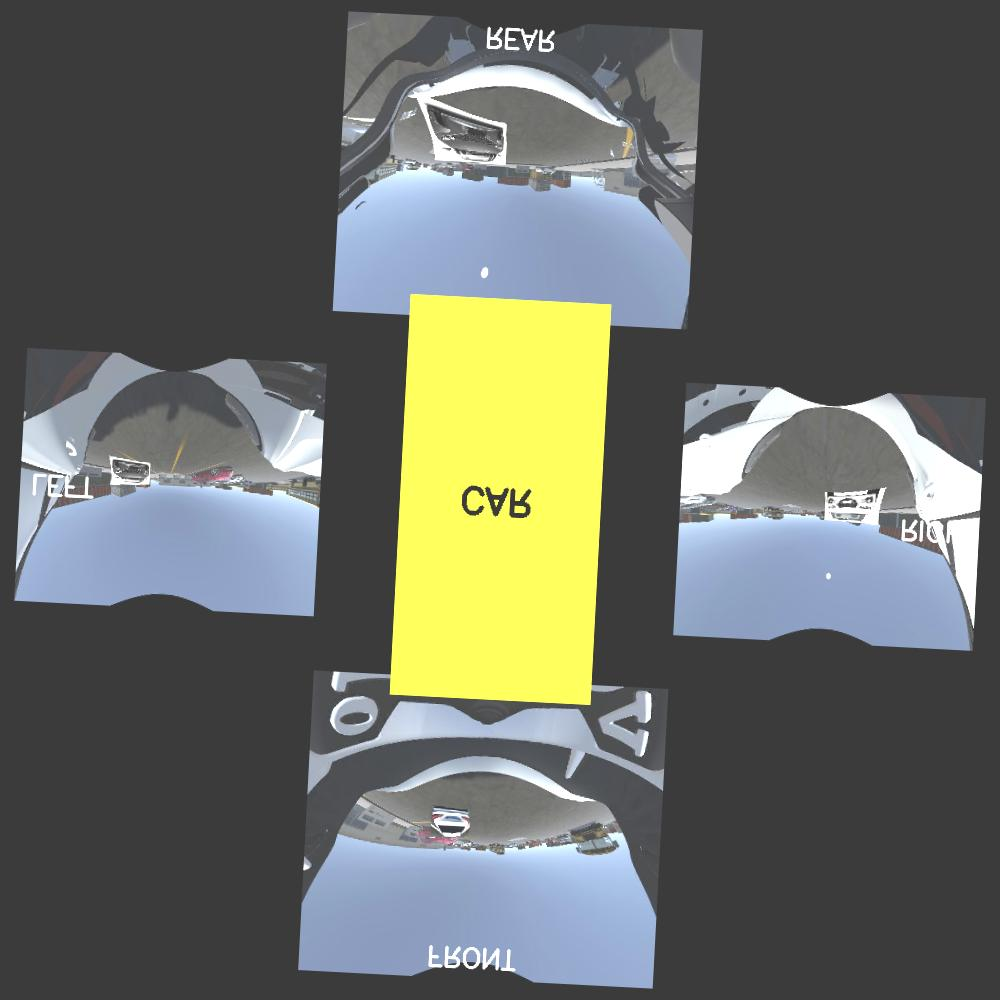Car: (421, 103, 510, 165), (823, 487, 883, 524), (430, 809, 470, 841), (109, 459, 154, 487)
